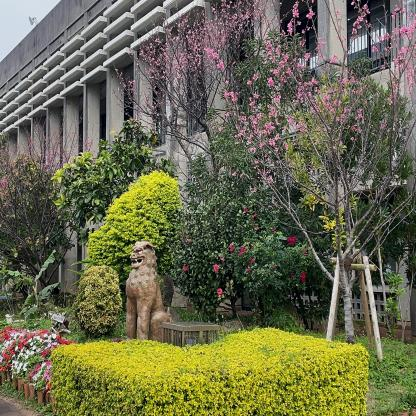KanhiSakura: (245, 0, 416, 256), (110, 1, 270, 190), (0, 111, 94, 262)
